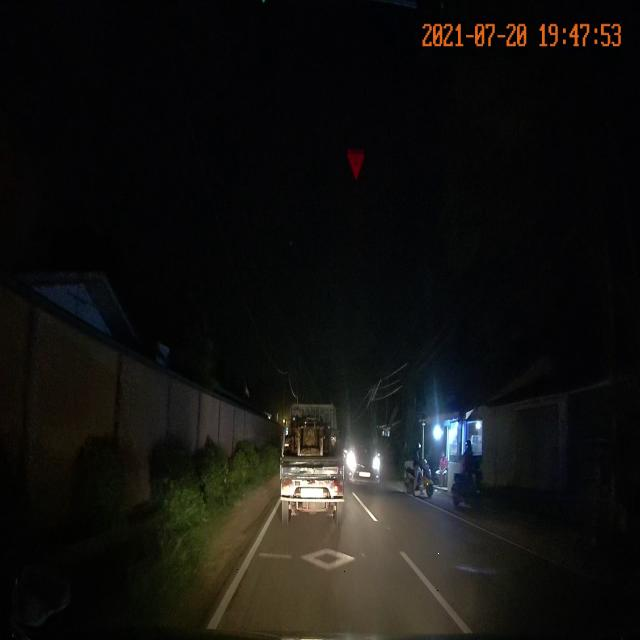diamond: (219, 534, 444, 606)
